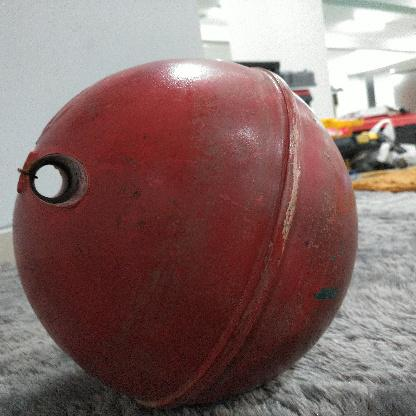red_buoy: (13, 56, 360, 406)
